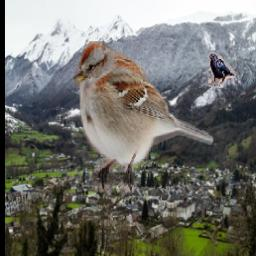Crow: (208, 52, 237, 88)
Sparrow: (74, 41, 214, 193)
